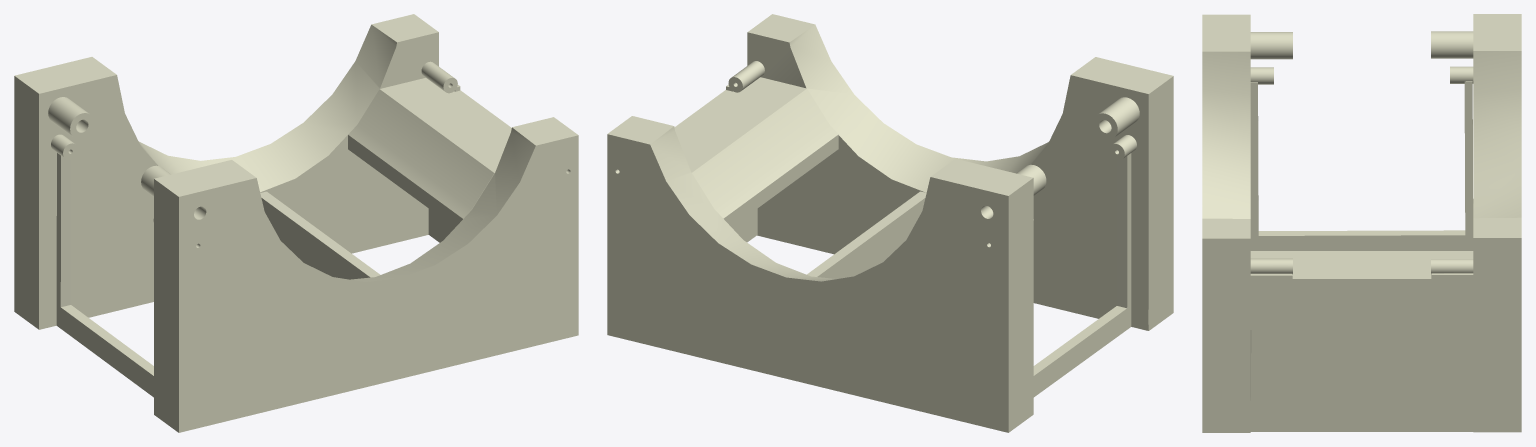
Rendered from baseNovaAmbu_Corrigida_final.dae.
3 views of the same model, side by side, from view 1: azimuth 30°, elevation 25°; view 2: azimuth 150°, elevation 25°; view 3: azimuth 270°, elevation 25° (orthographic). The views are drawn at different scales.
Parts seen in each view (by area): view 1: SketchUp (×2); view 2: SketchUp (×2); view 3: SketchUp (×4).
Boxes of the visible parts, left/top/right/bottom form: SketchUp (×2): left=14, top=14, right=578, bottom=432; SketchUp (×2): left=607, top=14, right=1173, bottom=432; SketchUp (×4): left=1202, top=14, right=1521, bottom=432.
Size of the model in its own units: 7.68 by 5.47 by 4.35.
